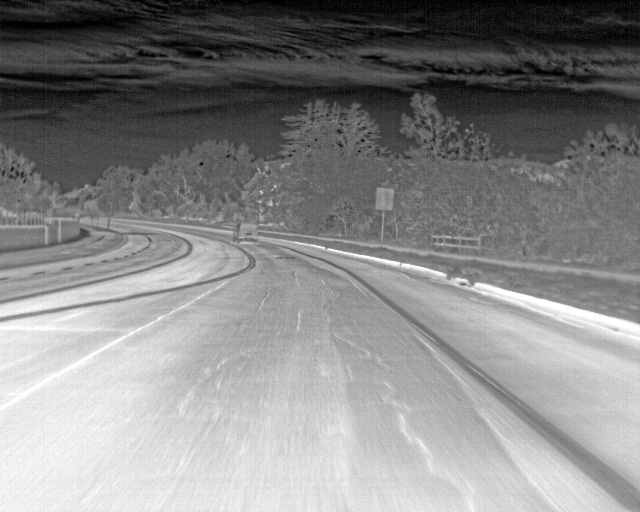vehicle: (233, 218, 260, 242)
